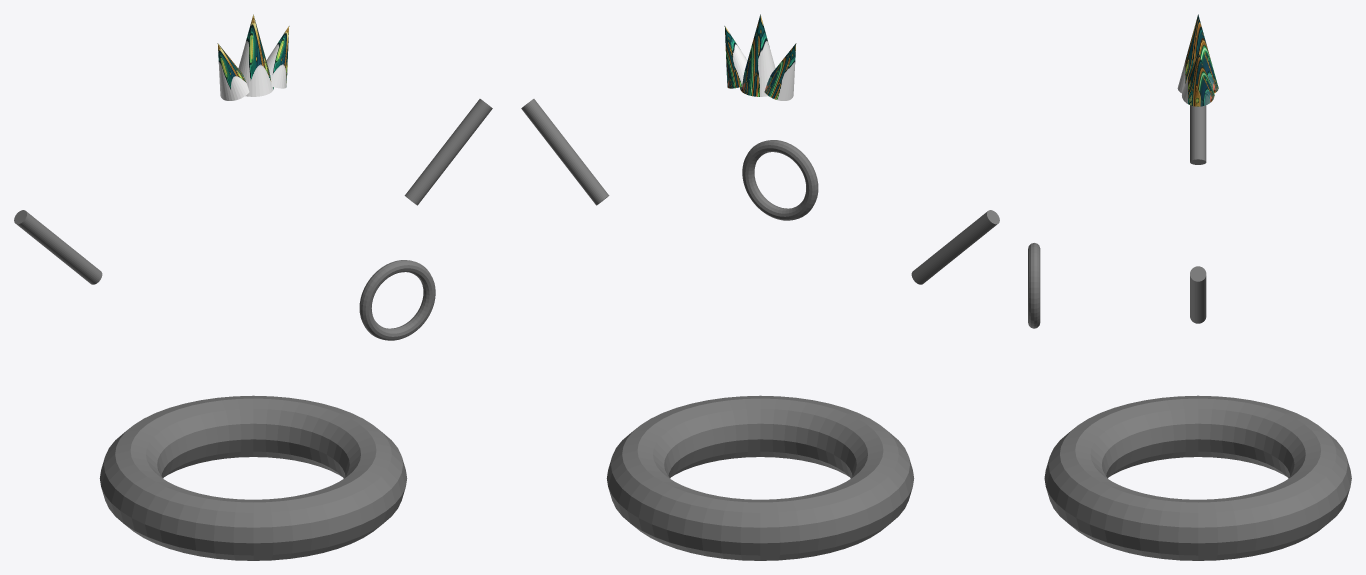
Rendered from accountant_v4_robot.glb.
3 views of the same model, side by side, from view 1: azimuth 30°, elevation 25°; view 2: azimuth 150°, elevation 25°; view 3: azimuth 270°, elevation 25° (orthographic).
Parts seen in each view (by area): view 1: Accountant_Head; view 2: Accountant_Head; view 3: Accountant_Head.
Part boxes in pixels (box(x1,y1,x2,y2)): Accountant_Head: box(14, 14, 492, 560); Accountant_Head: box(521, 14, 999, 560); Accountant_Head: box(1028, 14, 1351, 560).
Bounding box in the file's own units: 2.68 × 2.65 × 1.58.
2 materials, 1 textured.
